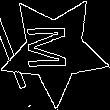M_E: (29, 25, 79, 74)
